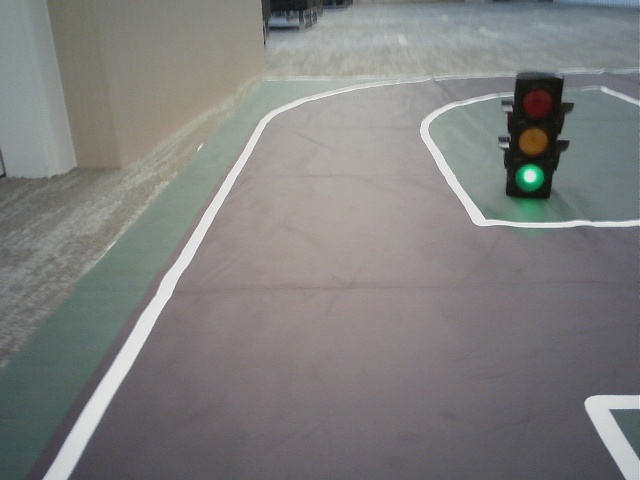green: (514, 79, 554, 193)
